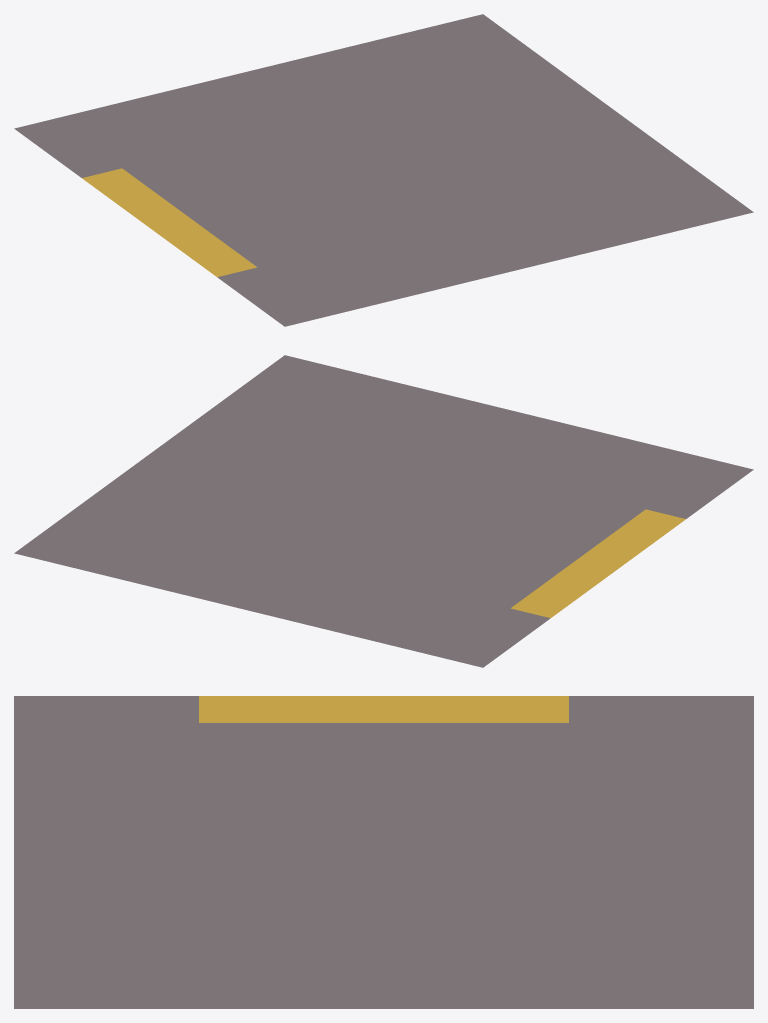
Rendered from road.fbx.
3 views of the same model, one above another, from view 1: azimuth 30°, elevation 25°; view 2: azimuth 150°, elevation 25°; view 3: azimuth 270°, elevation 25° (orthographic). The views are drawn at different scales.
Parts seen in each view (by area): view 1: Road; view 2: Road; view 3: Road.
Part boxes in pixels (left/top/right/bottom): Road: left=14, top=14, right=753, bottom=326; Road: left=14, top=355, right=753, bottom=667; Road: left=14, top=696, right=753, bottom=1008.
Size of the model in its own units: 150 by 3.33e-14 by 150.
